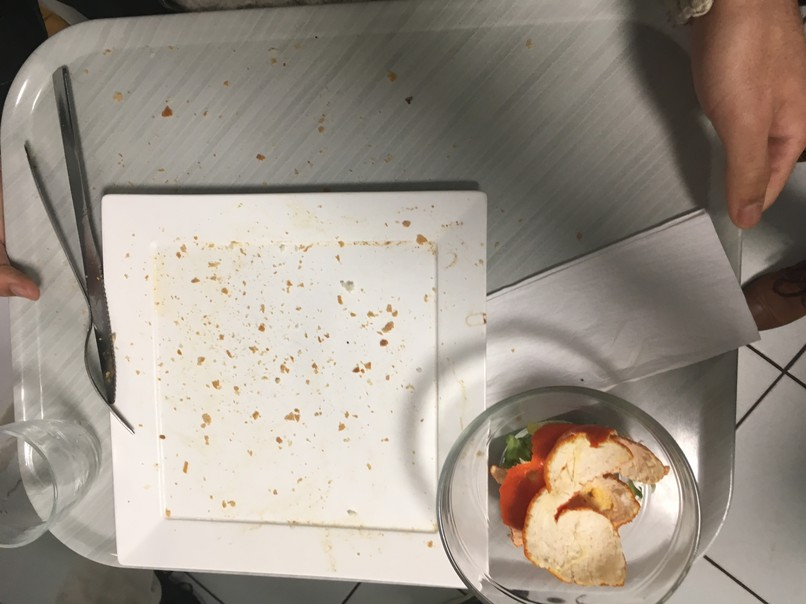cup: (1, 413, 99, 557)
cutlery: (22, 57, 147, 437)
orga: (496, 418, 673, 586)
trash: (481, 202, 760, 405)
